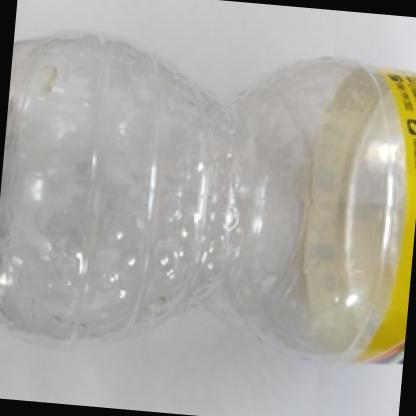plastic_bottles: (0, 27, 416, 366)
